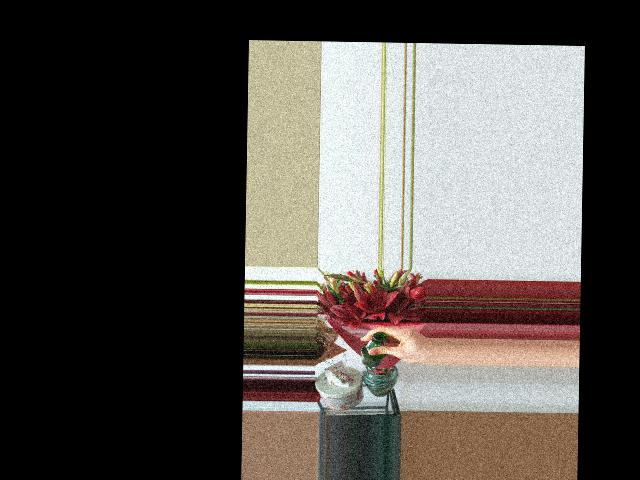beer: (361, 331, 388, 367)
